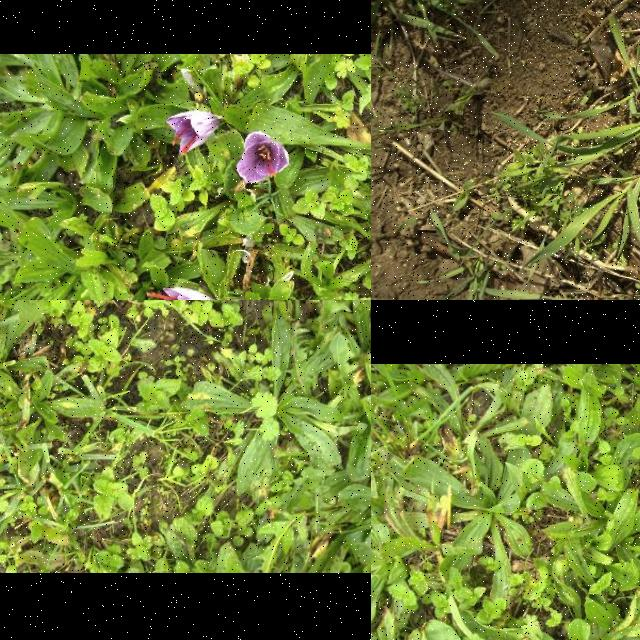flower: (238, 132, 288, 182), (167, 112, 217, 156), (146, 287, 216, 300)
